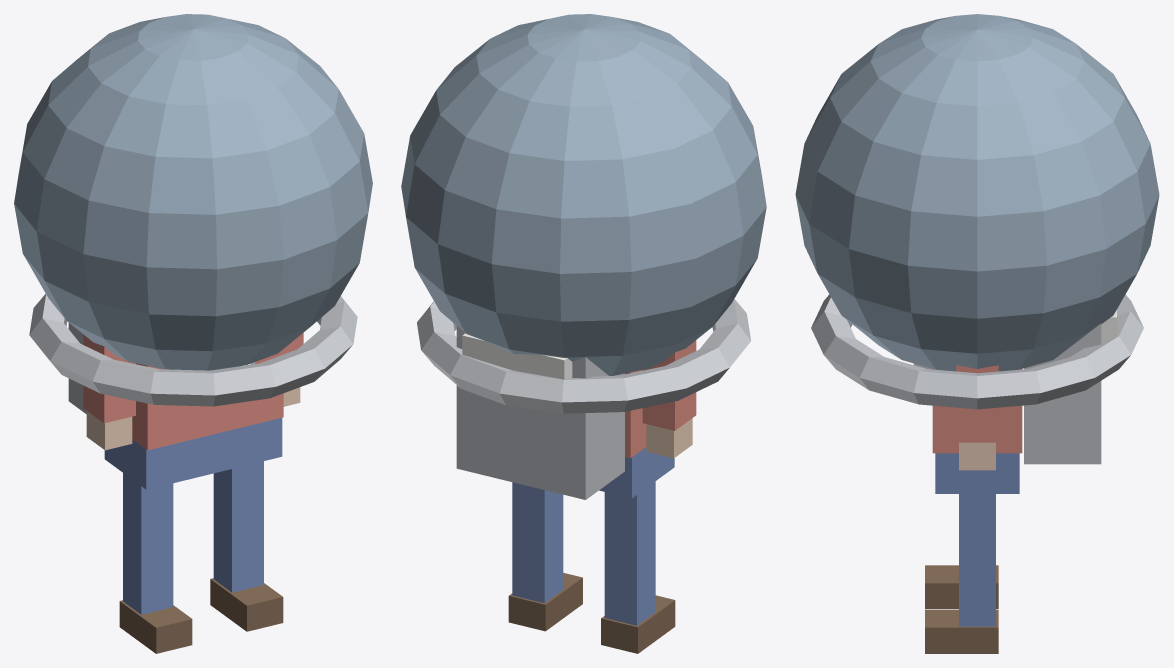
File: arena_astronaut.glb
3 views of the same model, side by side, from view 1: azimuth 30°, elevation 25°; view 2: azimuth 150°, elevation 25°; view 3: azimuth 270°, elevation 25° (orthographic).
Visible parts, largest first — view 1: dome_bubble, arena_astronaut; view 2: dome_bubble, arena_astronaut; view 3: dome_bubble, arena_astronaut.
Boxes of the visible parts, <box> form: dome_bubble: <box>14,14,372,370</box>; arena_astronaut: <box>29,294,357,653</box>; dome_bubble: <box>401,14,766,375</box>; arena_astronaut: <box>417,299,750,653</box>; dome_bubble: <box>795,14,1159,371</box>; arena_astronaut: <box>811,294,1143,653</box>.
Bounding box in the file's own units: 0.94 × 1.69 × 0.94.
